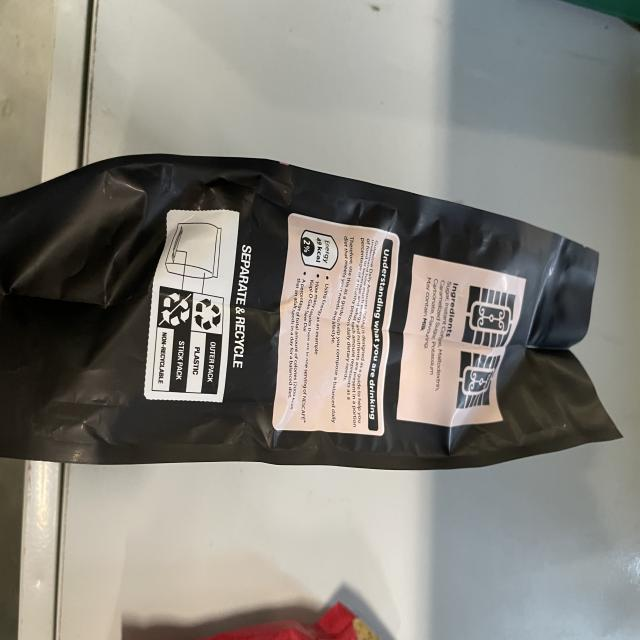object_name: (4, 159, 590, 454)
